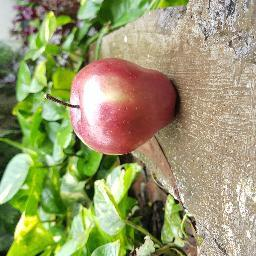Good_apple: (69, 60, 180, 156)
